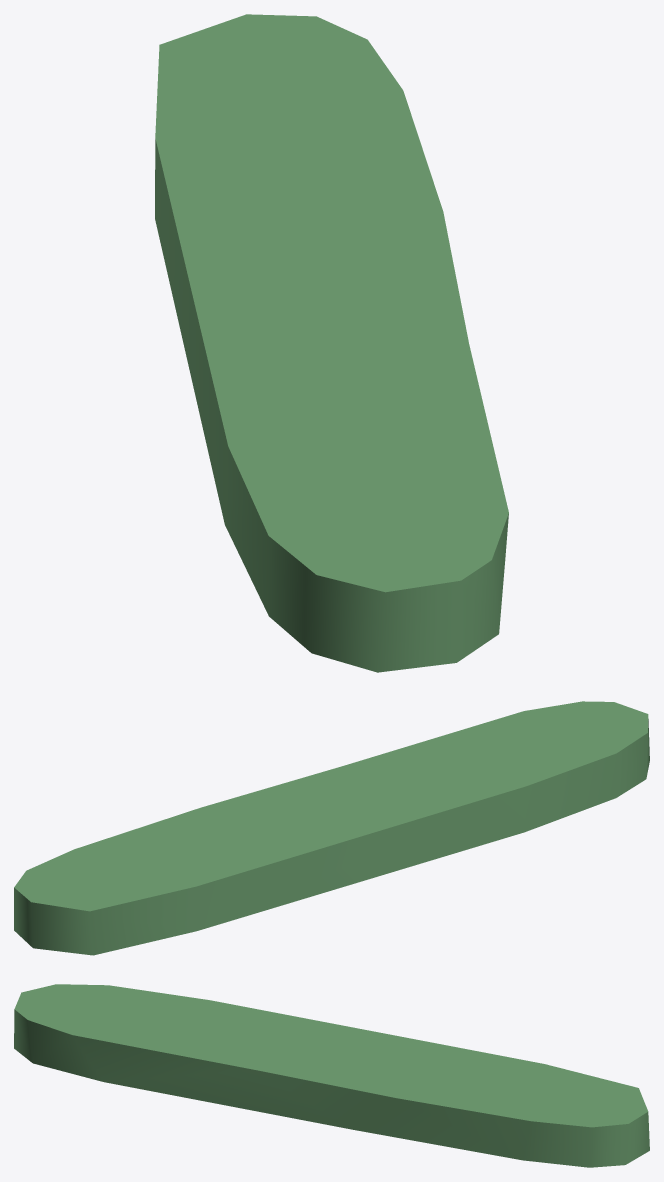
Rendered from Divide.fbx.
3 renders of one model, top to bottom at view 1: azimuth 30°, elevation 25°; view 2: azimuth 150°, elevation 25°; view 3: azimuth 270°, elevation 25°, orthographic. The views are drawn at different scales.
Visible parts, largest first — view 1: Divide; view 2: Divide; view 3: Divide.
Boxes of the visible parts, <box> form: Divide: <box>155,14,508,672</box>; Divide: <box>14,701,649,955</box>; Divide: <box>14,984,649,1167</box>.
Bounding box in the file's own units: 0.2499 × 0.0328 × 0.4681.
